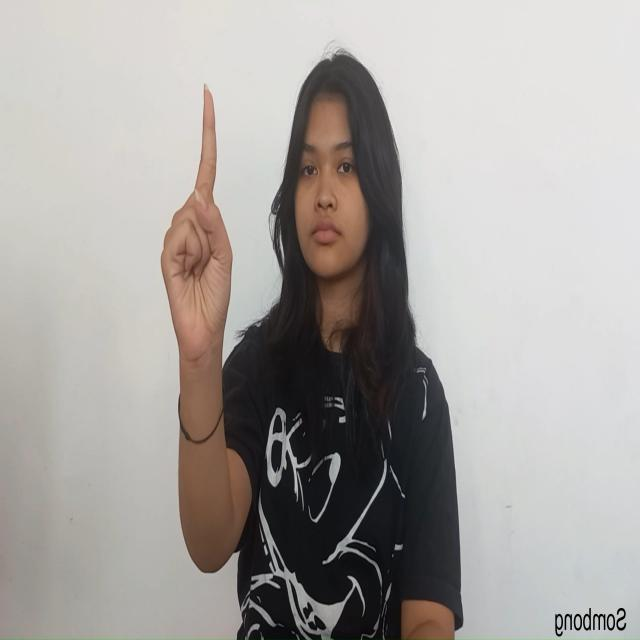Sombong -BISINDO-: (159, 80, 235, 382)
